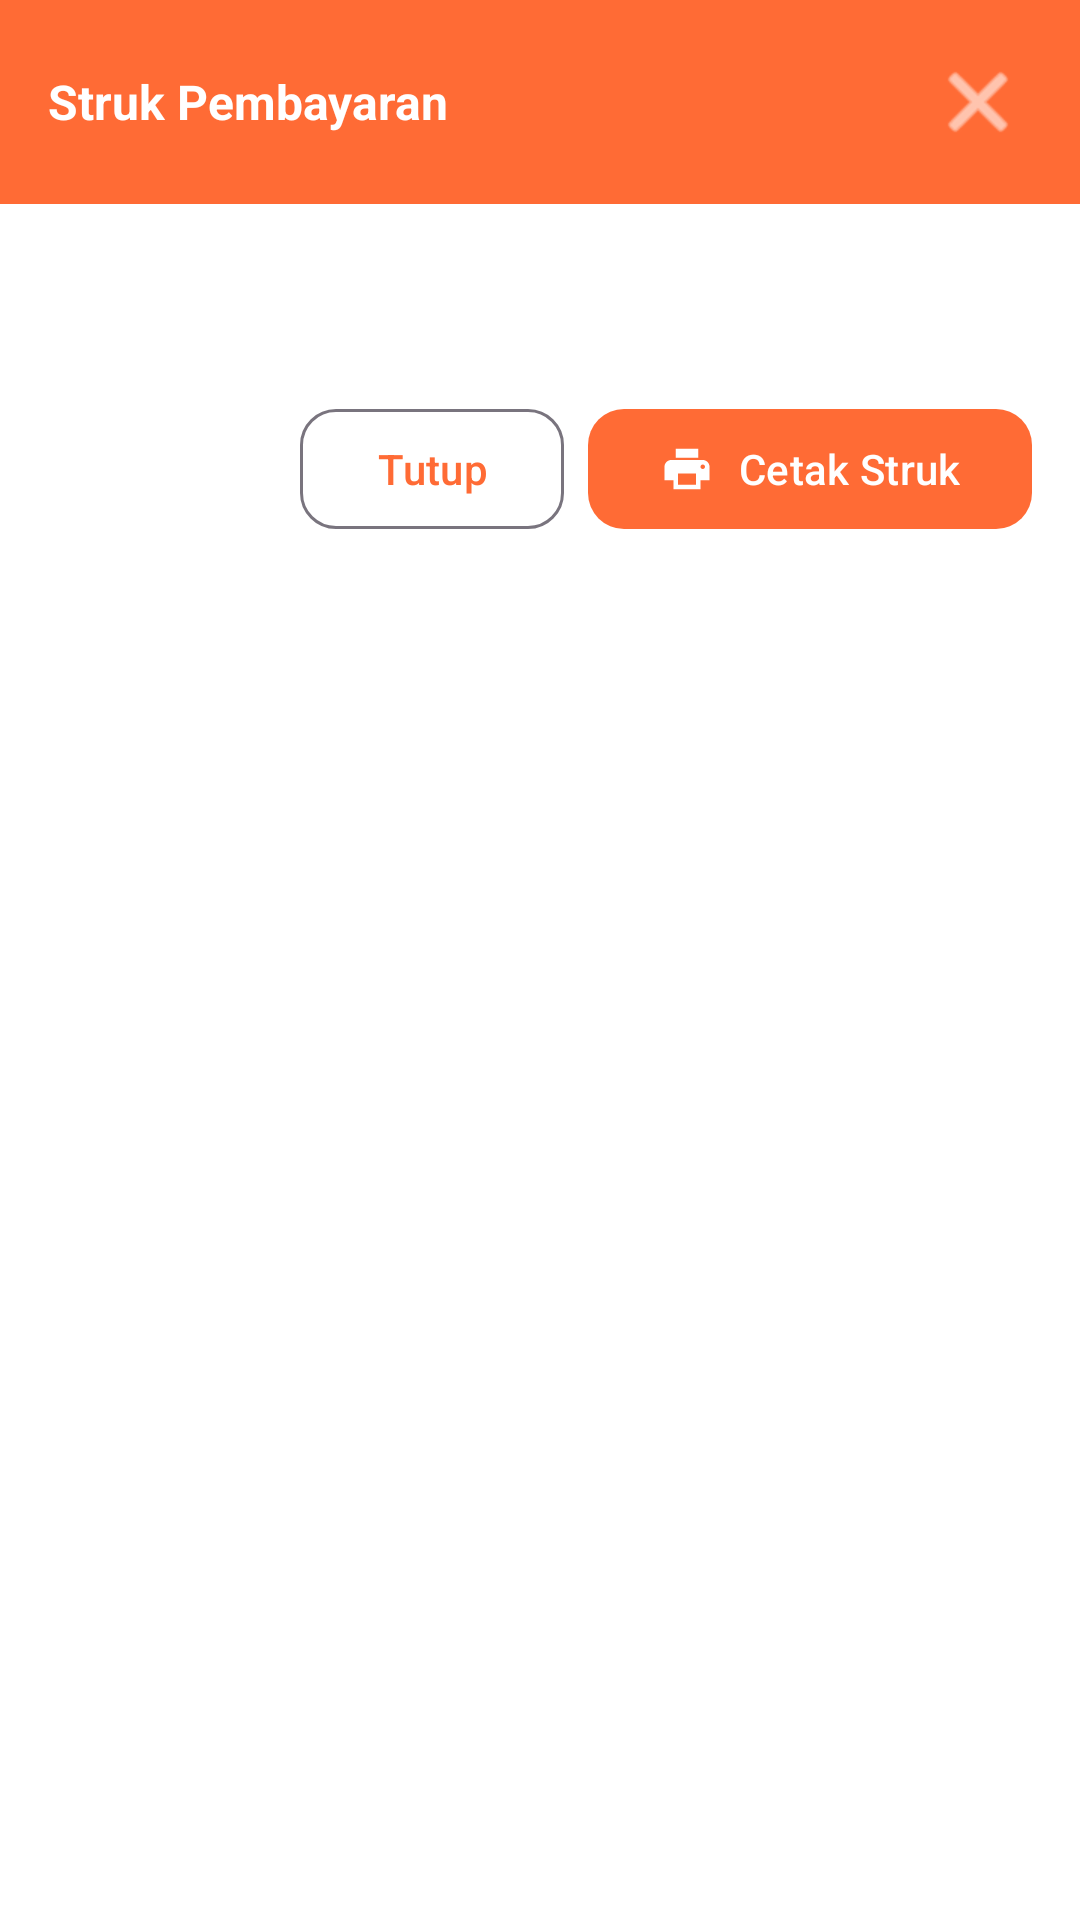

Where icons sit on this 1080 × 1920 app screen, as (x1, y1, x2, y2):
Tutup: (948, 72, 1008, 132)
